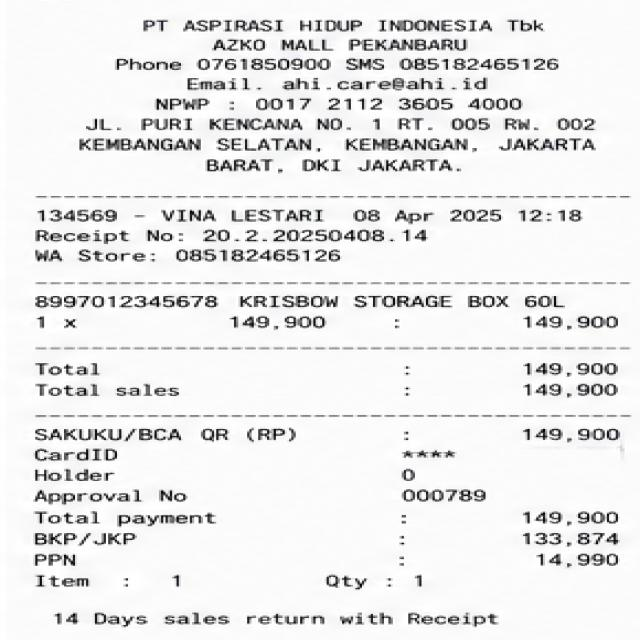date: (345, 204, 597, 226)
store: (133, 14, 558, 55)
total: (32, 508, 629, 530)
